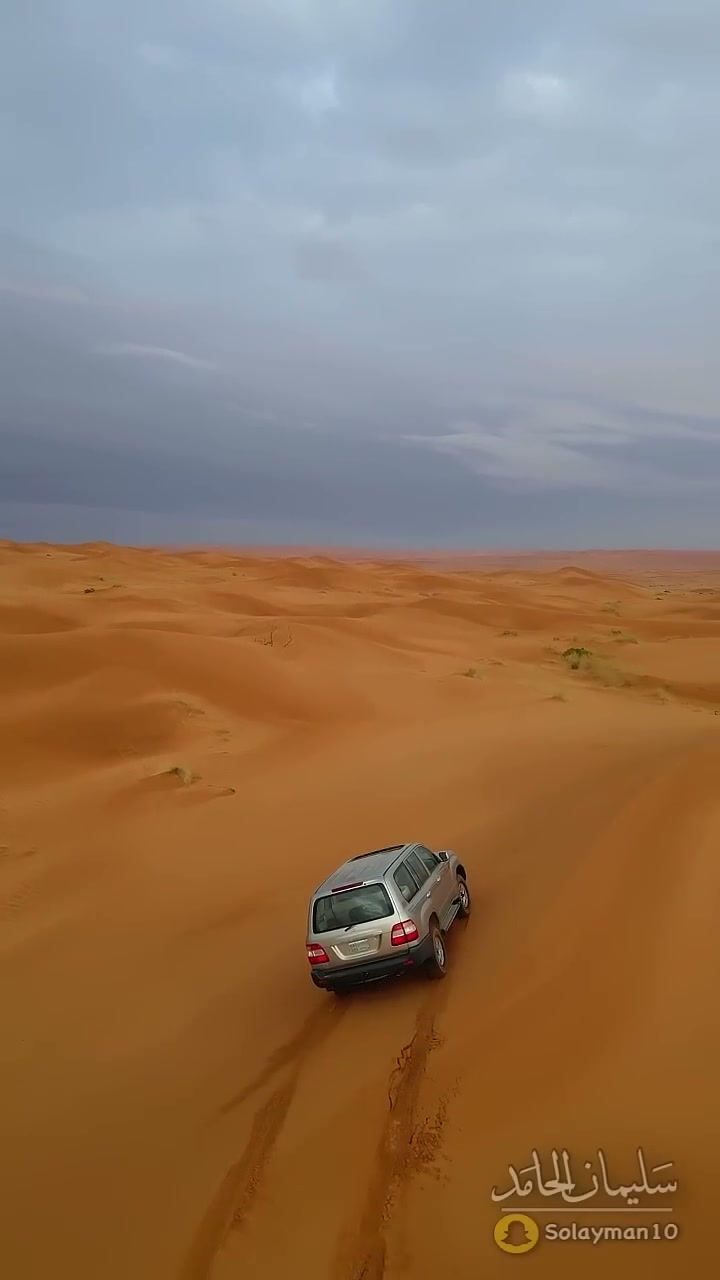vehicle_track: (181, 1006, 344, 1279), (332, 990, 446, 1279)
